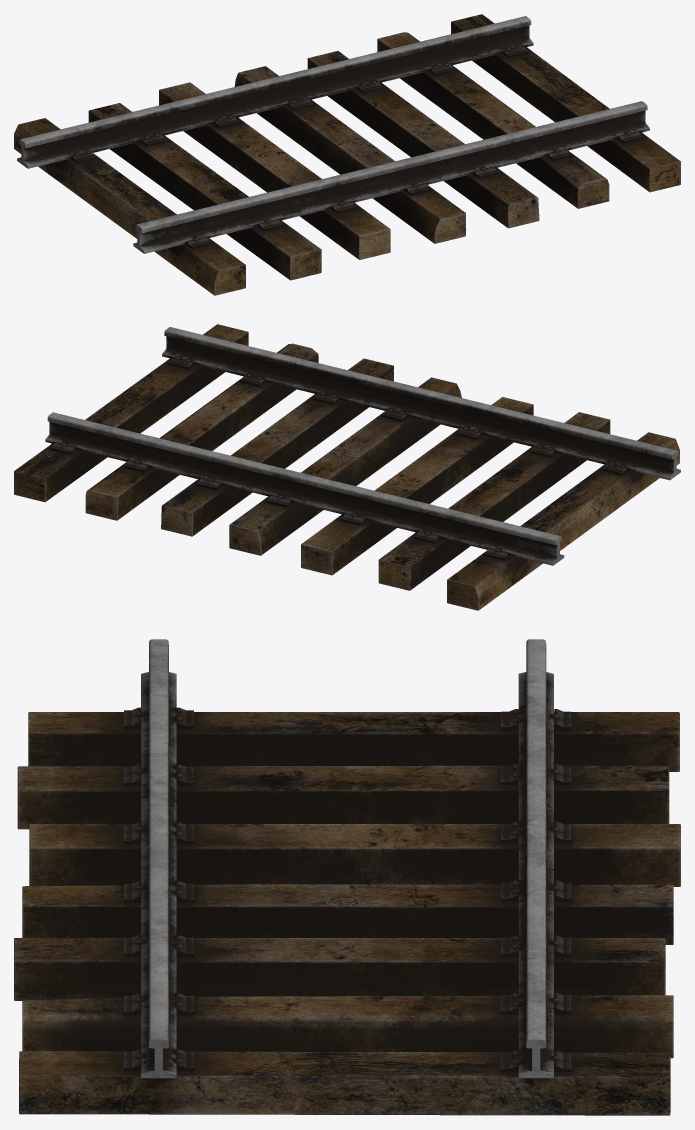
File: rail_piece.glb
3 views of the same model, one above another, from view 1: azimuth 30°, elevation 25°; view 2: azimuth 150°, elevation 25°; view 3: azimuth 270°, elevation 25° (orthographic). The views are drawn at different scales.
Parts seen in each view (by area): view 1: railroad_gav_railroad_gav_0; view 2: railroad_gav_railroad_gav_0; view 3: railroad_gav_railroad_gav_0.
Part boxes in pixels (box(x1,y1,x2,y2)): railroad_gav_railroad_gav_0: box(14, 14, 680, 295); railroad_gav_railroad_gav_0: box(14, 324, 680, 610); railroad_gav_railroad_gav_0: box(14, 639, 680, 1115).
Size of the model in its own units: 4 by 0.3716 by 2.82.
1 material, 1 textured.
